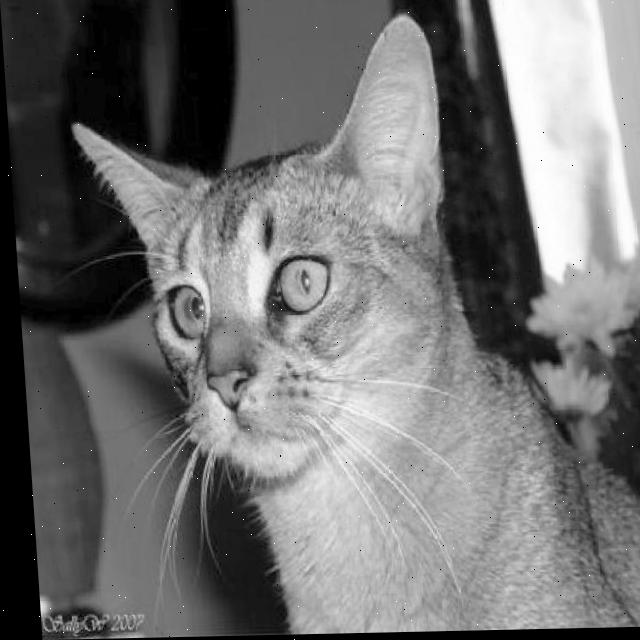Cat: (64, 5, 640, 637)
